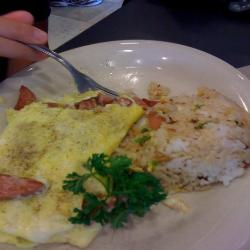omelette: (3, 84, 142, 244)
